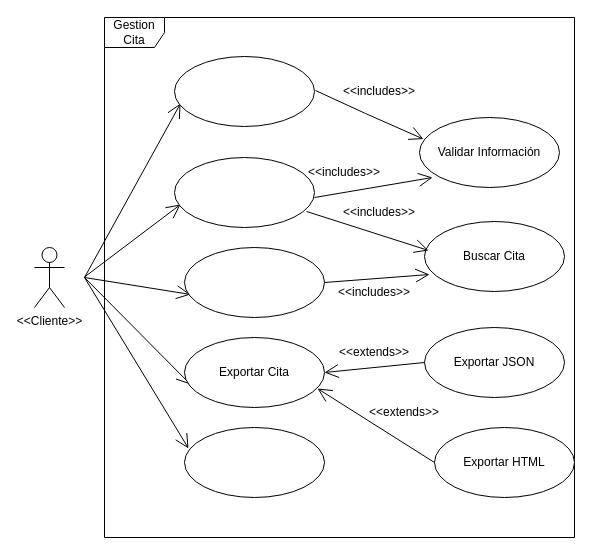
This 592x555 diagram has some shape labels left out. Here are the shapes that lost their labels. From the top down, the centre of each, then its label:
At [244,91]: "Crear Cita".
At [244,192]: "Editar Cita".
At [254,282]: "Borrar Cita".
At [254,462]: "Exportar Todas Las Citas".
